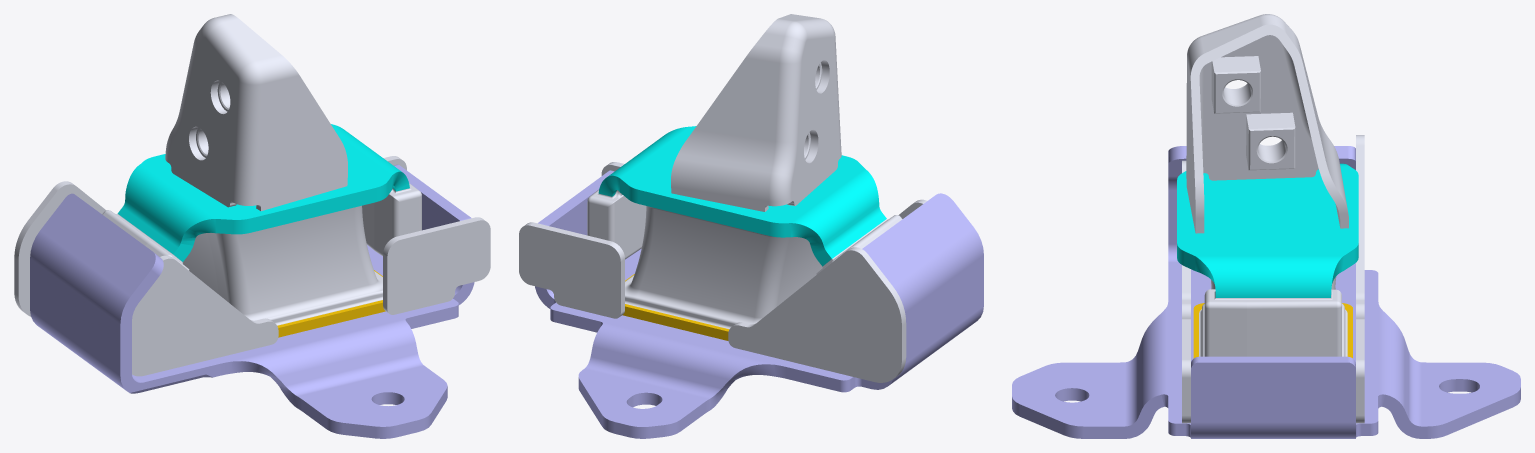
The picture shows the model from 3 angles, left to right: view 1: azimuth 30°, elevation 25°; view 2: azimuth 150°, elevation 25°; view 3: azimuth 270°, elevation 25°; orthographic projection. The views are drawn at different scales.
Parts seen in each view (by area): view 1: 1G0543-13(1)-1, 1G0537-11(2)-1, 1G0580-01-1, 1G0539-11(1)-1, 1G0543-13(3)-2, 1G0539-13(4)-1, 1G0543-13(2)-2, 1G0539-12(1)-1; view 2: 1G0543-13(1)-1, 1G0537-11(2)-1, 1G0580-01-1, 1G0543-13(2)-2, 1G0539-11(1)-1, 1G0539-13(4)-2, 1G0539-12(1)-1; view 3: 1G0543-13(1)-1, 1G0539-11(1)-1, 1G0537-11(2)-1, 1G0580-01-1, 1G0539-11(3)-2, 1G0539-11(3)-1, 1G0543-13(2)-2, 1G0539-13(4)-1, 1G0539-13(4)-2, 1G0539-12(1)-1, 1G0543-13(3)-2.
Boxes of the visible parts, left/top/right/bottom form: 1G0543-13(1)-1: left=30, top=164, right=474, bottom=438; 1G0537-11(2)-1: left=165, top=14, right=347, bottom=211; 1G0580-01-1: left=102, top=183, right=421, bottom=325; 1G0539-11(1)-1: left=117, top=124, right=409, bottom=261; 1G0543-13(3)-2: left=132, top=255, right=278, bottom=376; 1G0539-13(4)-1: left=383, top=217, right=490, bottom=314; 1G0543-13(2)-2: left=14, top=181, right=106, bottom=316; 1G0539-12(1)-1: left=277, top=270, right=385, bottom=337; 1G0543-13(1)-1: left=535, top=170, right=983, bottom=438; 1G0537-11(2)-1: left=671, top=14, right=841, bottom=211; 1G0580-01-1: left=587, top=190, right=902, bottom=329; 1G0543-13(2)-2: left=728, top=247, right=906, bottom=382; 1G0539-11(1)-1: left=598, top=126, right=886, bottom=266; 1G0539-13(4)-2: left=519, top=222, right=624, bottom=318; 1G0539-12(1)-1: left=622, top=274, right=729, bottom=340; 1G0543-13(1)-1: left=1012, top=146, right=1520, bottom=438; 1G0539-11(1)-1: left=1177, top=163, right=1358, bottom=297; 1G0537-11(2)-1: left=1186, top=14, right=1348, bottom=233; 1G0580-01-1: left=1199, top=276, right=1347, bottom=356; 1G0539-11(3)-2: left=1246, top=112, right=1295, bottom=170; 1G0539-11(3)-1: left=1211, top=56, right=1260, bottom=113; 1G0543-13(2)-2: left=1356, top=135, right=1364, bottom=318; 1G0539-13(4)-1: left=1182, top=318, right=1190, bottom=423; 1G0539-13(4)-2: left=1356, top=318, right=1364, bottom=423; 1G0539-12(1)-1: left=1193, top=303, right=1352, bottom=358; 1G0543-13(3)-2: left=1182, top=160, right=1190, bottom=318.
Size of the model in its own units: 0.1692 by 0.1421 by 0.185.
